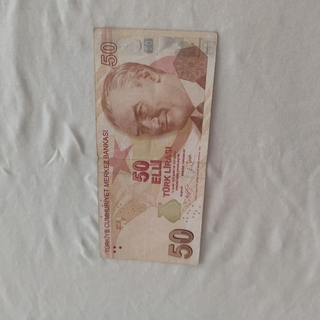50TLFront: (93, 27, 218, 265)
